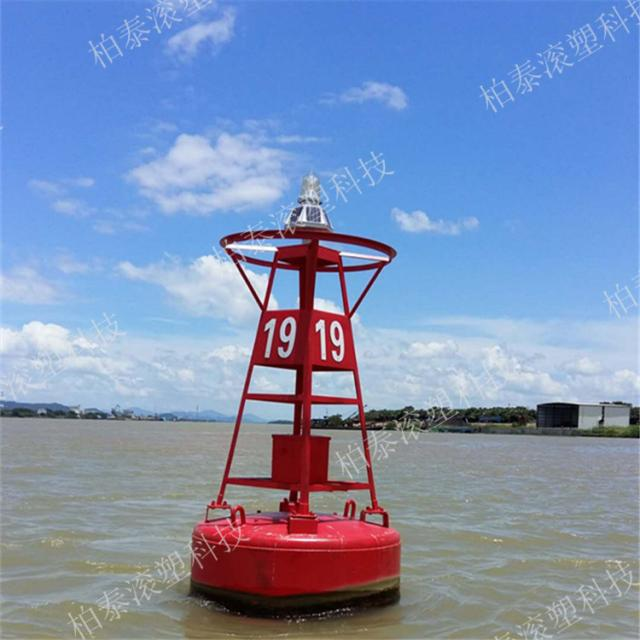buoy: (180, 162, 408, 601)
